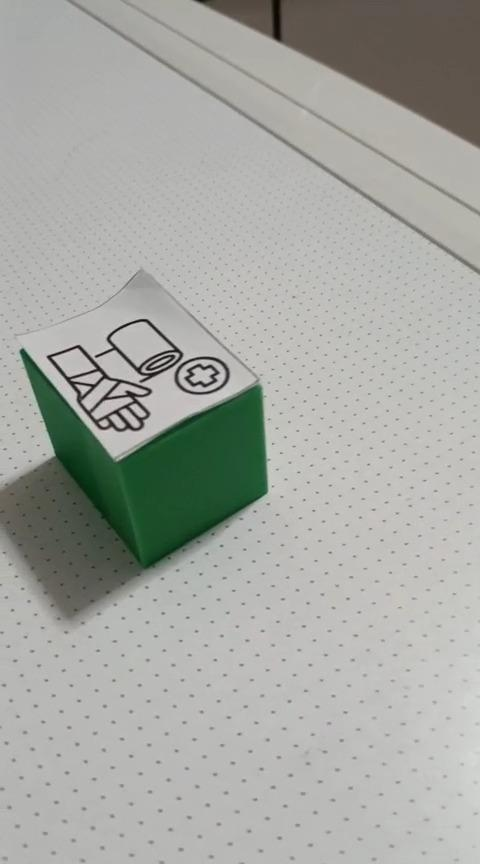Bandages: (14, 266, 269, 569)
